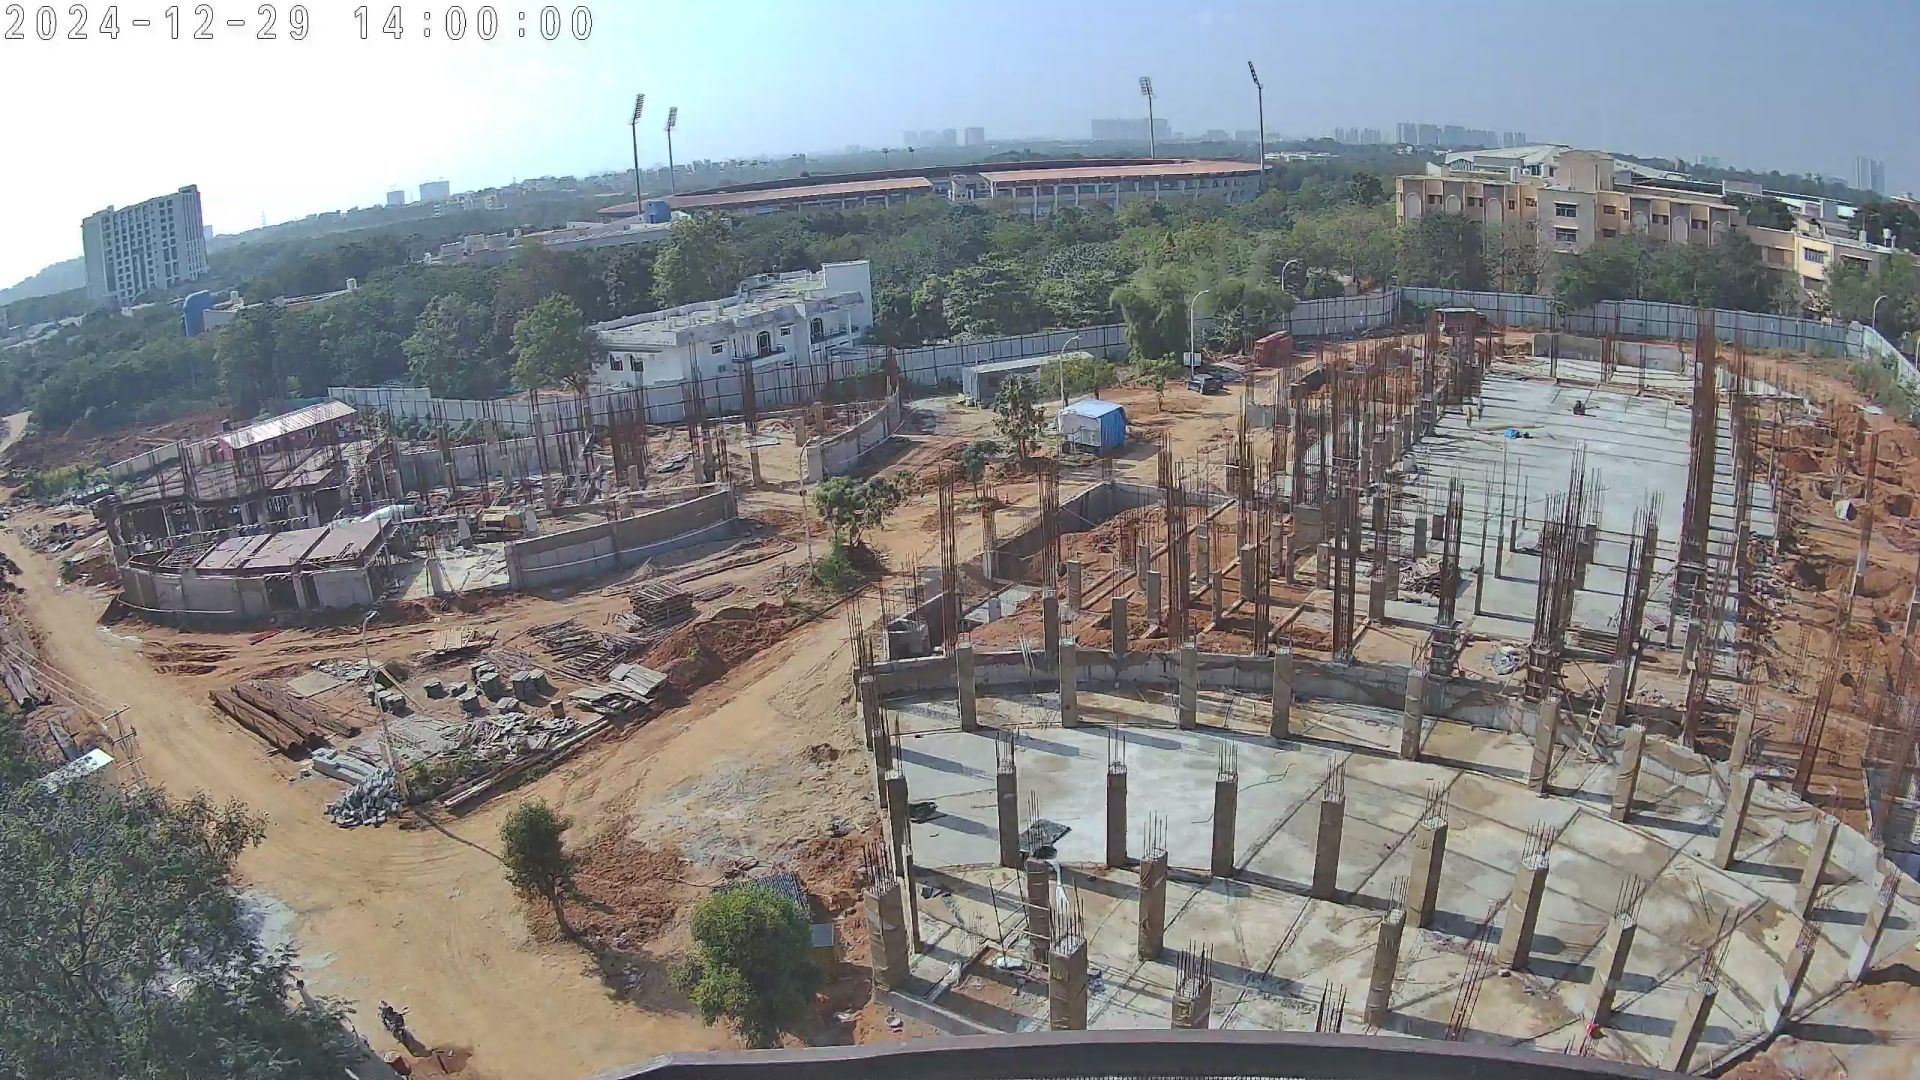bike: (371, 998, 419, 1048)
truck: (317, 500, 429, 566)
worker: (1475, 393, 1487, 424), (1464, 405, 1475, 429)
